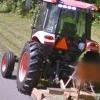Tractor: (6, 4, 99, 100)
